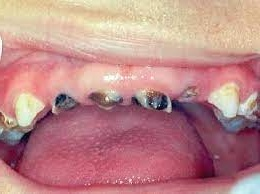Caries: (138, 83, 170, 112), (86, 90, 121, 111), (50, 88, 82, 110), (173, 83, 202, 104)
